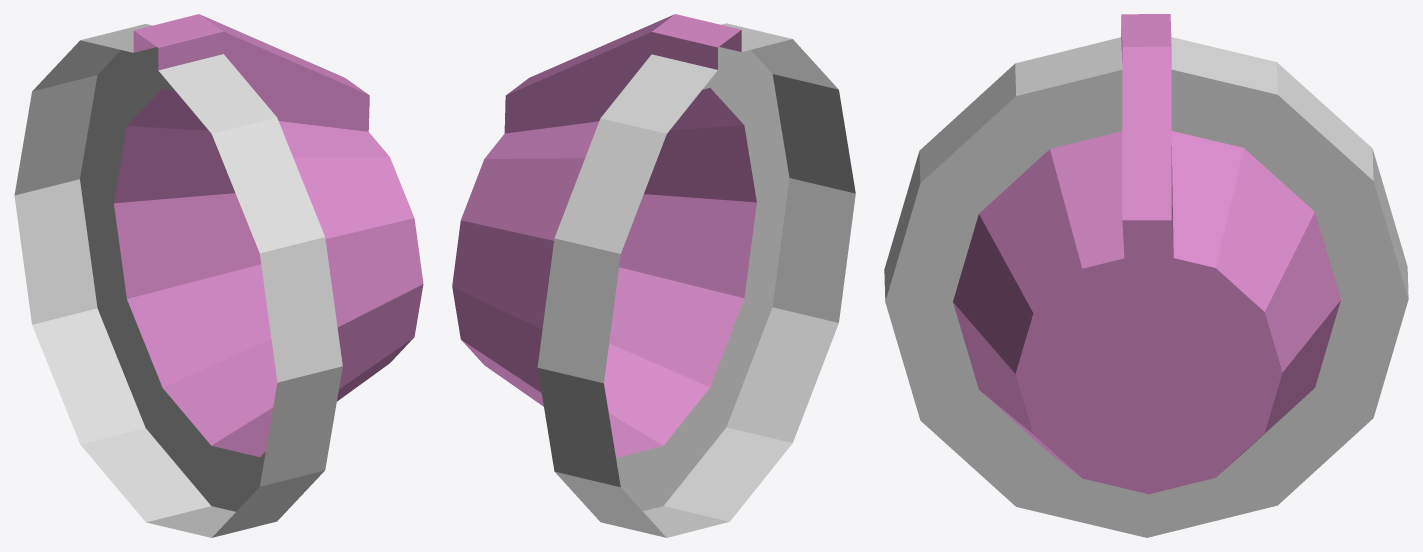
The model's file is breaker_dial.fbx.
The picture shows the model from 3 angles, left to right: view 1: azimuth 30°, elevation 25°; view 2: azimuth 150°, elevation 25°; view 3: azimuth 270°, elevation 25°; orthographic projection.
Visible parts, largest first — view 1: breaker_dial; view 2: breaker_dial; view 3: breaker_dial.
Part boxes in pixels (x1,y1,x2,y2): breaker_dial: (14,14,423,537); breaker_dial: (452,14,855,537); breaker_dial: (884,14,1408,537).
Bounding box in the file's own units: 8.34 × 17.83 × 17.24.
